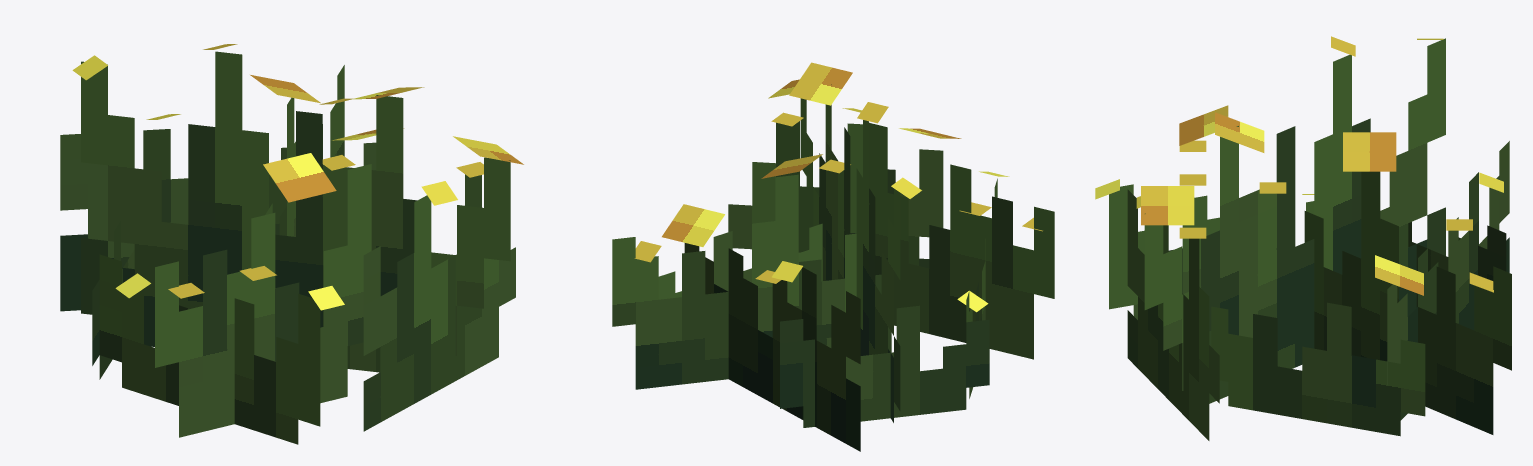
File: flower-yellow-3.gltf
3 views of the same model, side by side, from view 1: azimuth 30°, elevation 25°; view 2: azimuth 150°, elevation 25°; view 3: azimuth 270°, elevation 25° (orthographic). The views are drawn at different scales.
Parts seen in each view (by area): view 1: cube (×14); view 2: cube (×13); view 3: cube (×14).
Boxes of the visible parts, bbox=[...] form: cube (×14): bbox=[60, 51, 523, 444]; cube (×13): bbox=[612, 62, 1054, 451]; cube (×14): bbox=[1109, 38, 1511, 440].
Size of the model in its own units: 0.9713 by 0.7811 by 0.9932.
Materials: 1 (1 with a texture image).
